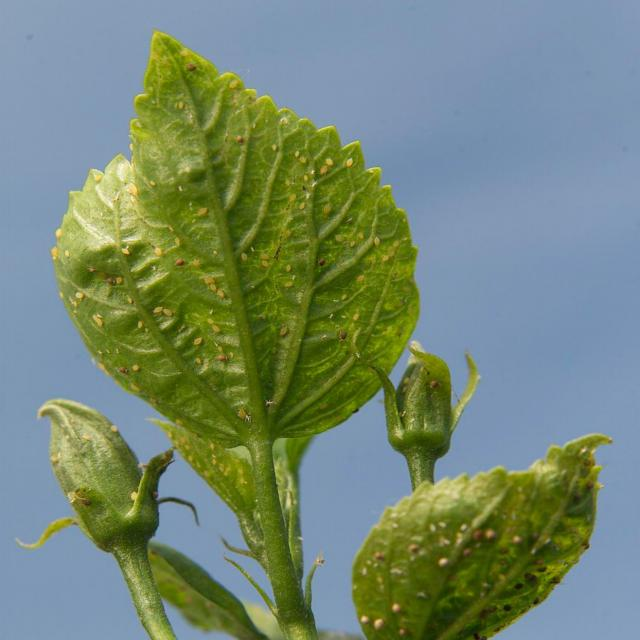Aphid-Grown-: (273, 324, 294, 340), (294, 200, 315, 214), (189, 334, 206, 350), (235, 250, 252, 264), (320, 155, 338, 168), (194, 205, 211, 218), (316, 164, 333, 177), (342, 152, 355, 168), (126, 360, 144, 371), (210, 322, 224, 336), (122, 293, 138, 305), (71, 289, 90, 299), (355, 230, 370, 242), (160, 307, 176, 318), (347, 238, 358, 253), (207, 282, 220, 294), (149, 302, 163, 313), (352, 273, 367, 283), (204, 315, 216, 327), (94, 316, 106, 328), (60, 249, 74, 259), (152, 245, 164, 256), (287, 192, 300, 202), (217, 290, 230, 300), (378, 252, 390, 262), (134, 318, 144, 330), (121, 246, 130, 258), (114, 276, 124, 286), (270, 143, 280, 152), (352, 312, 362, 321), (373, 236, 380, 246)
